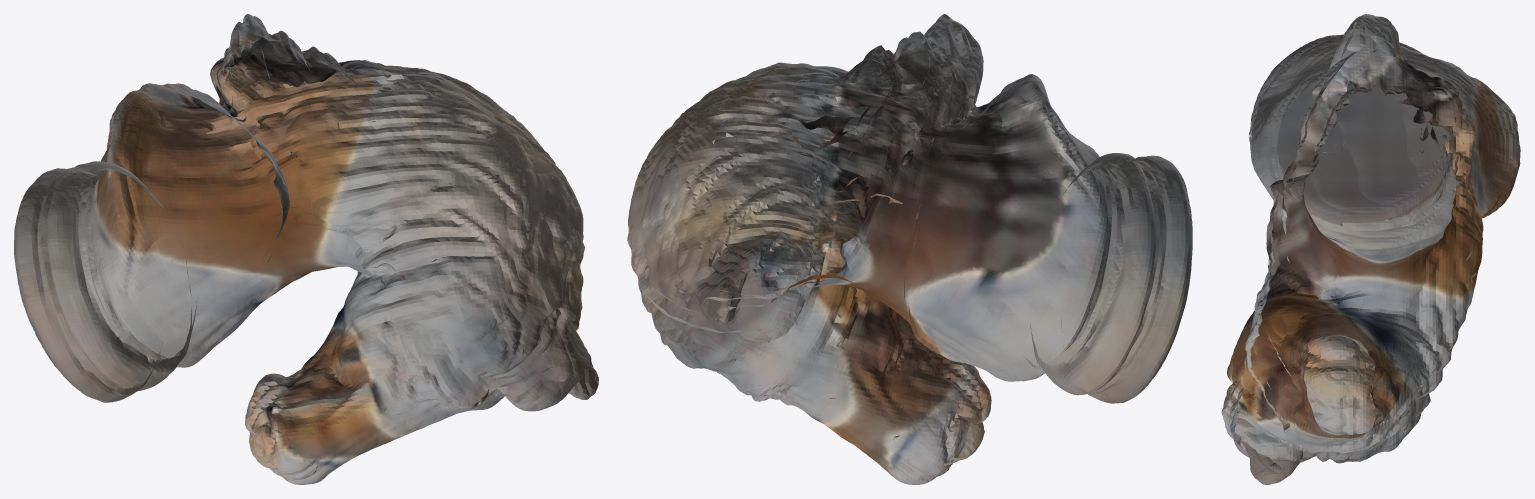
File: knight.glb
3 renders of one model, left to right at view 1: azimuth 30°, elevation 25°; view 2: azimuth 150°, elevation 25°; view 3: azimuth 270°, elevation 25°, orthographic. The views are drawn at different scales.
Visible parts, largest first — view 1: world; view 2: world; view 3: world.
Part boxes in pixels (left/top/right/bottom): world: left=14, top=14, right=598, bottom=484; world: left=627, top=14, right=1192, bottom=484; world: left=1221, top=14, right=1520, bottom=484.
Size of the model in its own units: 1.02 by 0.9166 by 0.6131.
